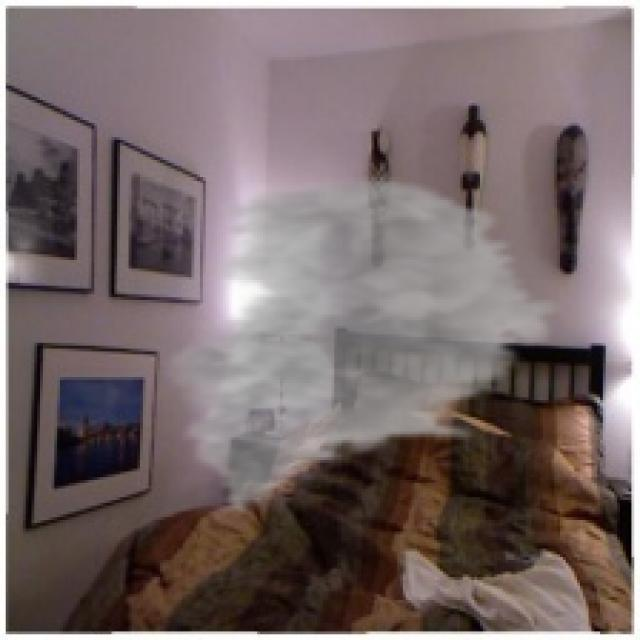Smoke: (154, 172, 569, 517)
